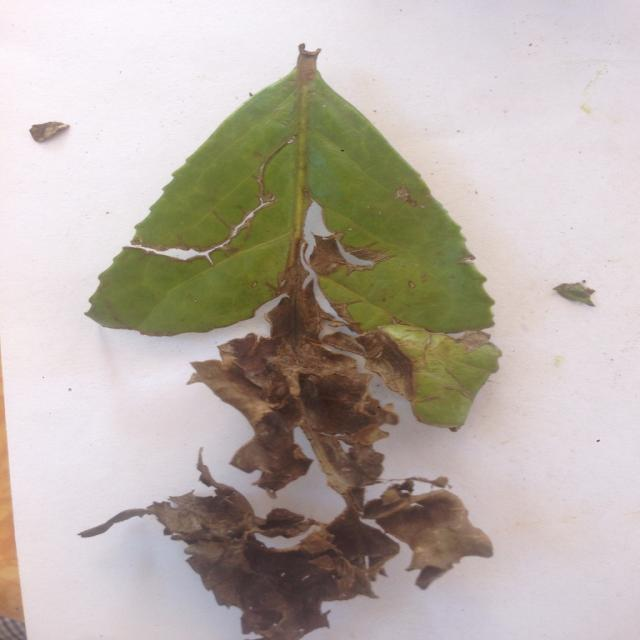Brown Blight: (87, 40, 519, 640)
